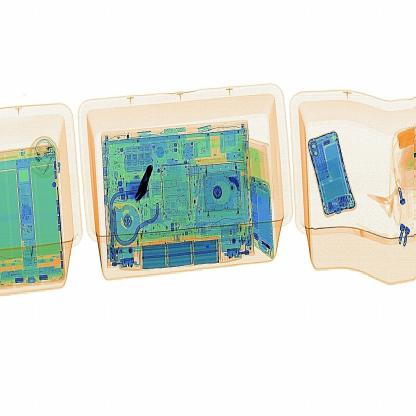knife: (132, 154, 158, 212)
